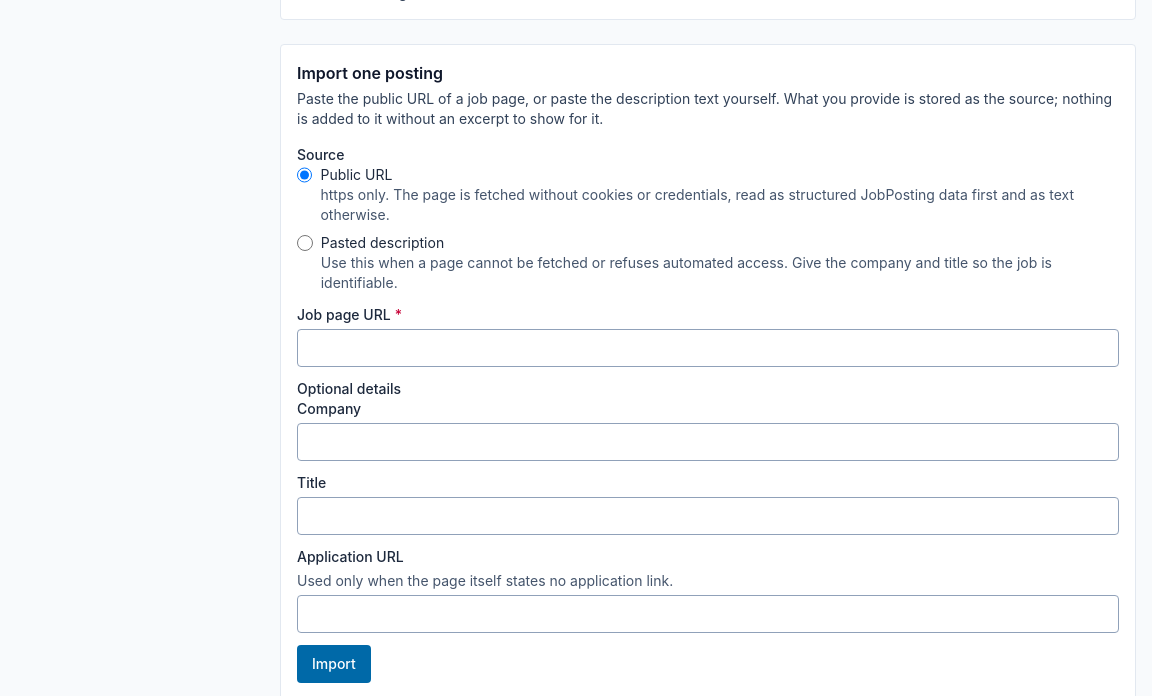
Test case: discover: manual import › links to the created job
(page scrolled)
In the field labelled "Job page URL*": [708, 348] box 297,329 -> 1119,367, type "https://careers.example.test/jobs/123"
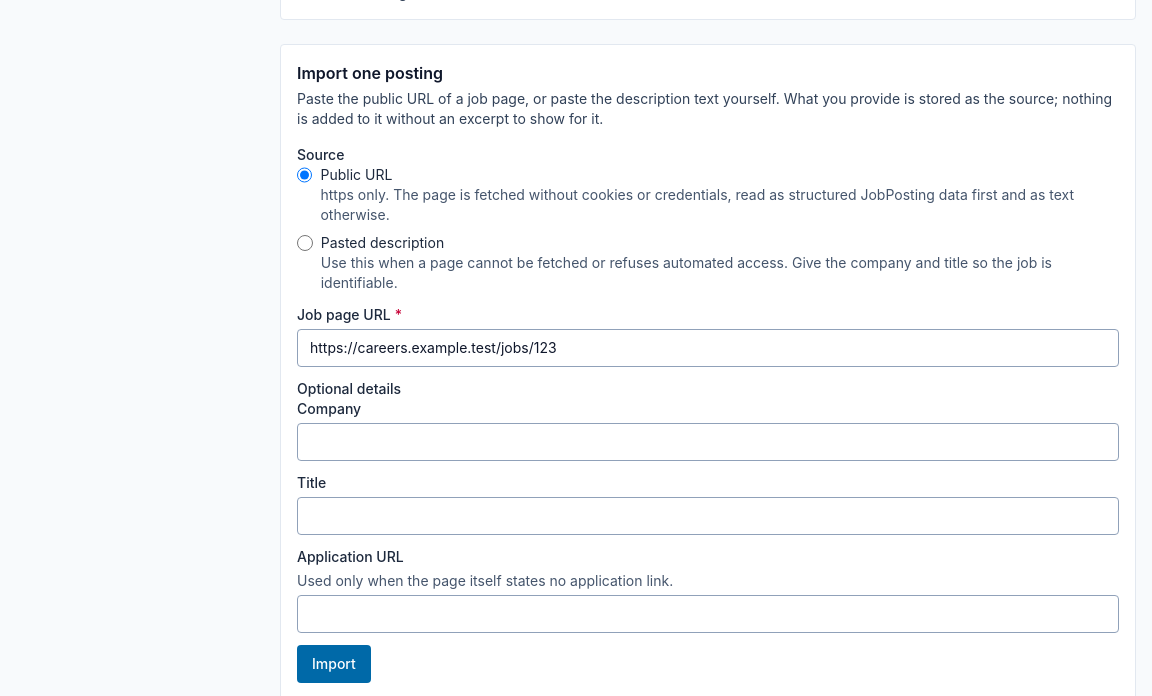
Click the button "Import": [334, 664] box 297,645 -> 371,683
(page scrolled)
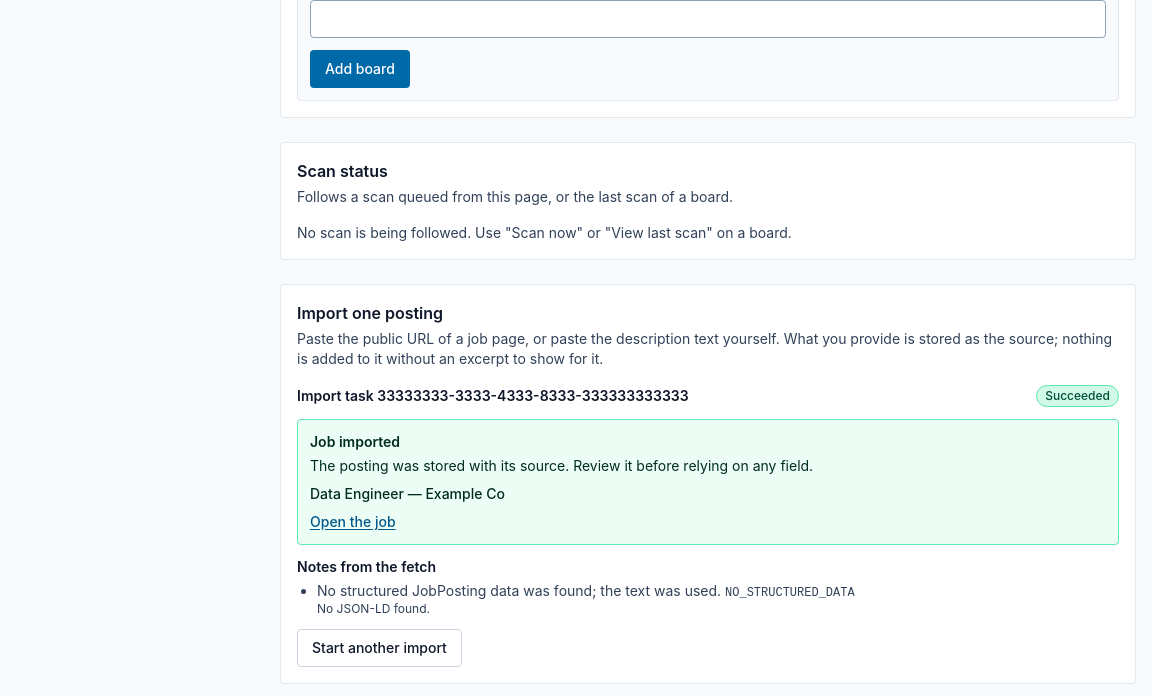
Expected: the text "Data Engineer — Example Co" is shown, 310,485 -> 505,502
Expected: the text "NO_STRUCTURED_DATA" is shown, 725,586 -> 855,600
Expected: the text "No JSON-LD found." is shown, 317,601 -> 430,616
